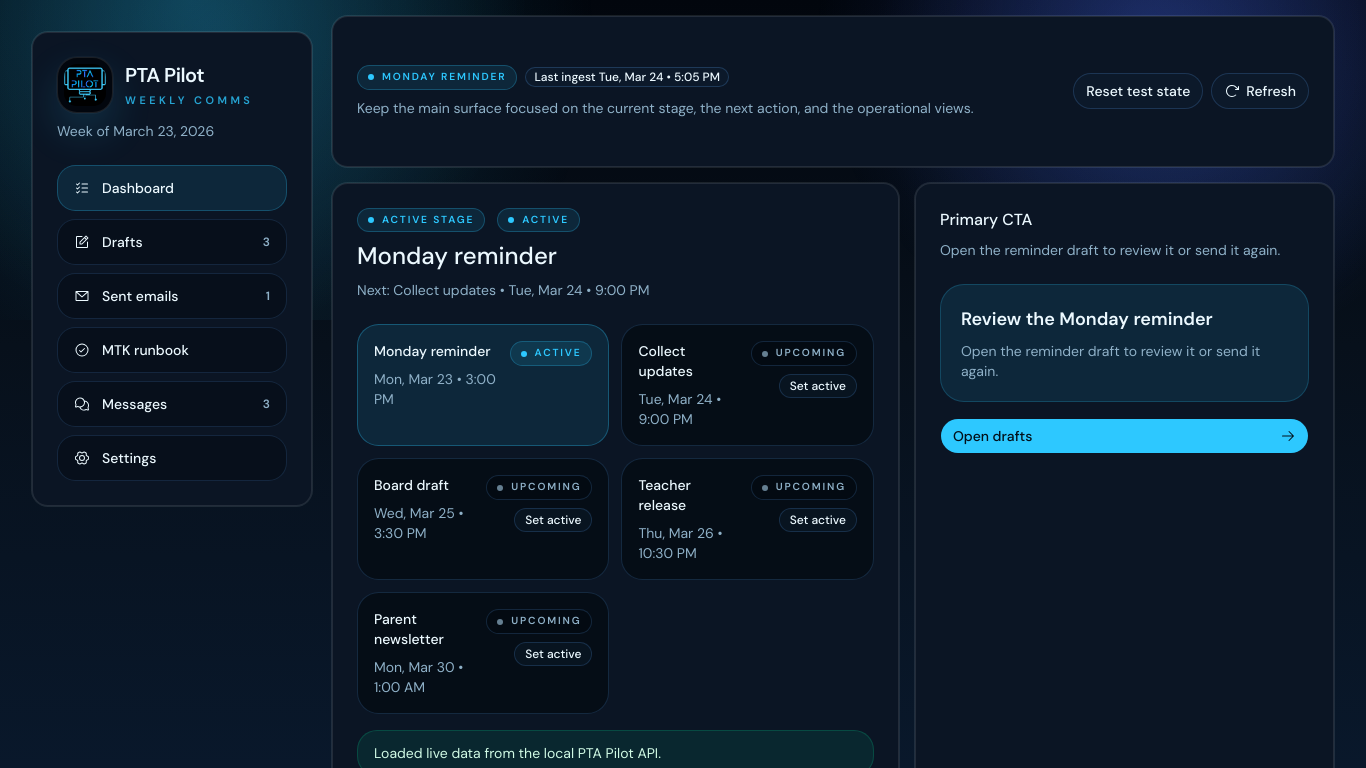
DashboardShell › surfaces the active-stage Monday draft for replay when Monday is manually selected
Click the button "Open drafts" at (993, 436), box [940,418,1309,454]
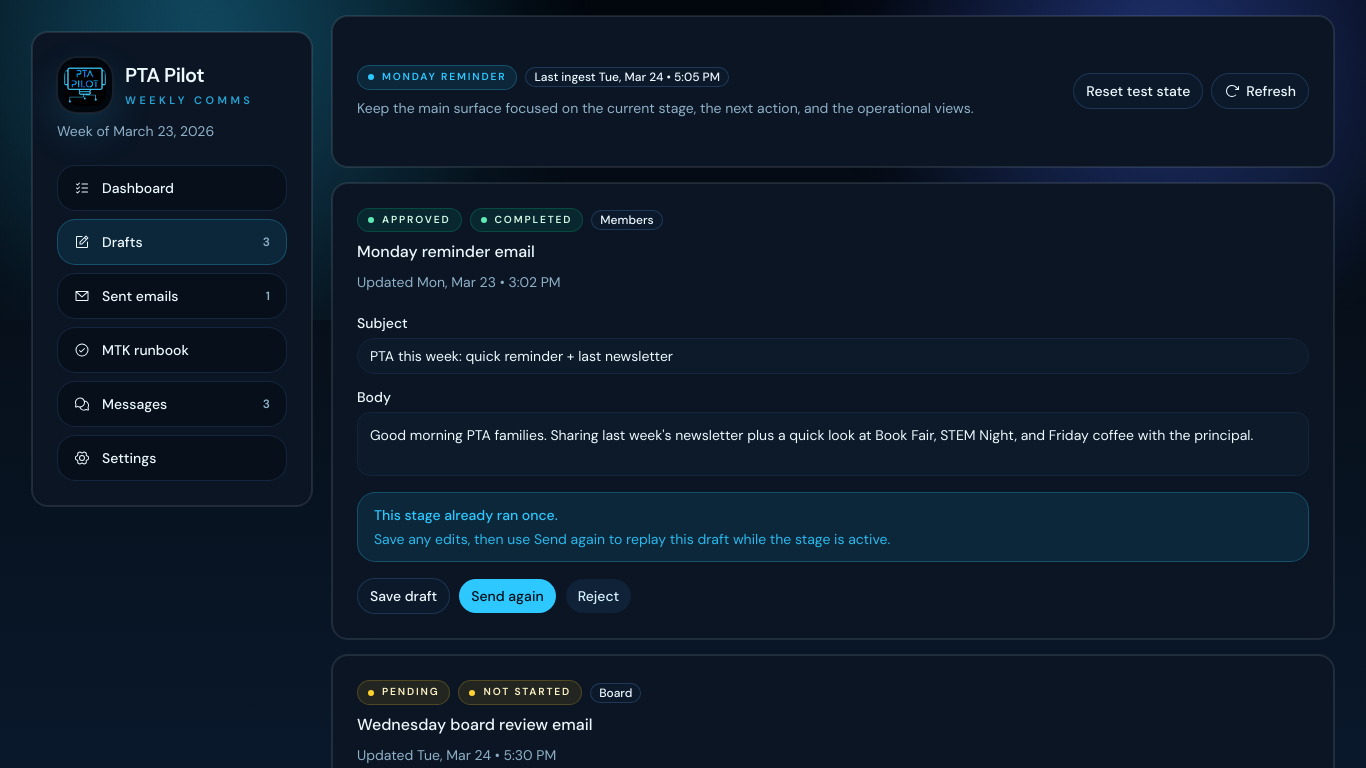
Expected: the text "Monday reminder email" is shown, [357,241,535,262]
Expected: the button "Send again" is shown, [458,578,557,614]
